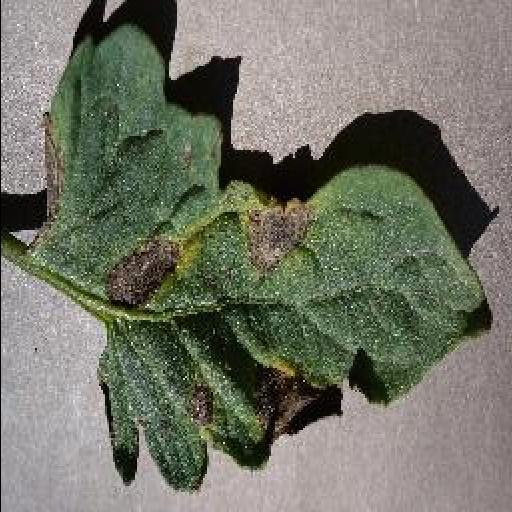disease_tomato: (34, 28, 494, 492)
